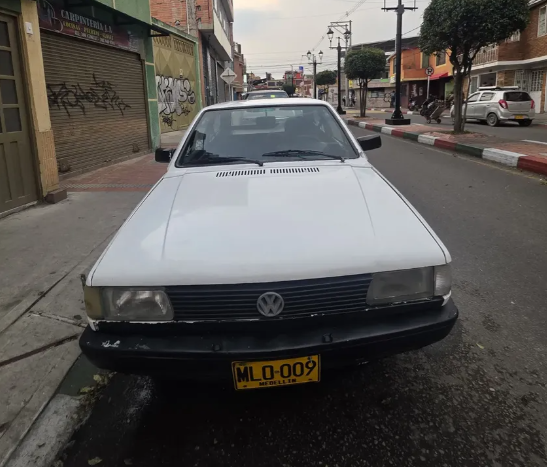placa: (234, 350, 319, 401)
